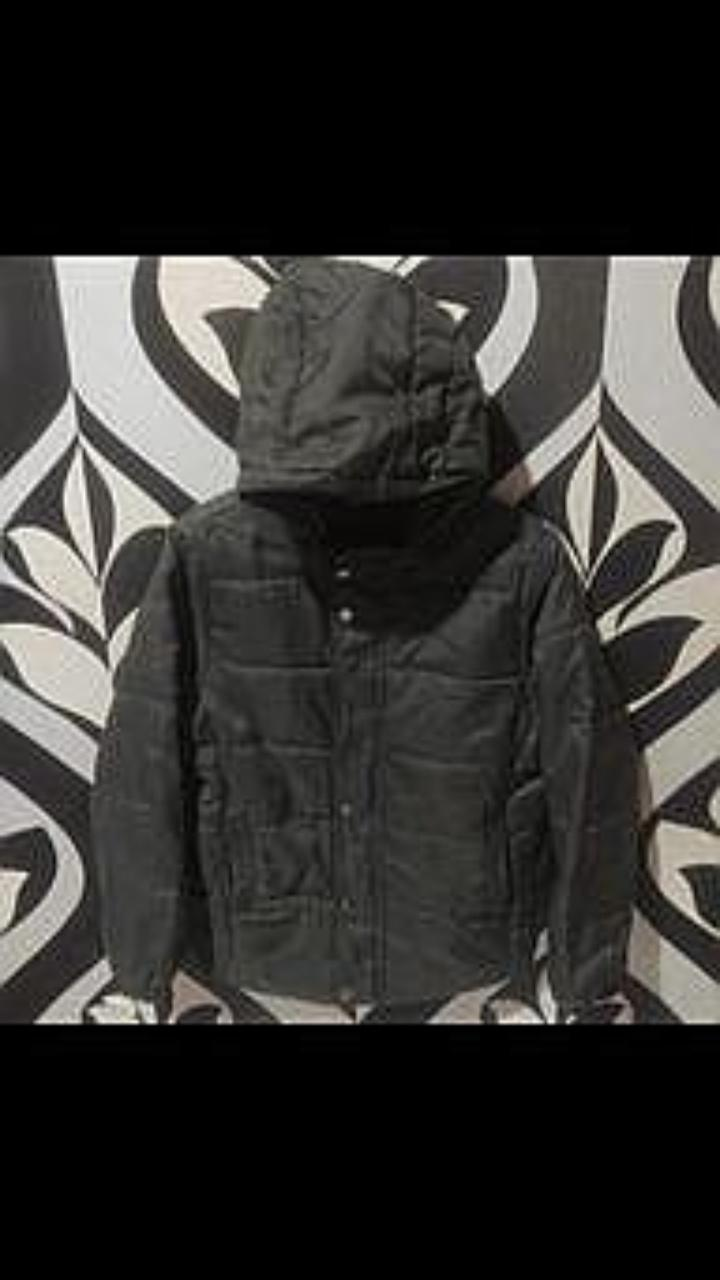Sports_Jacket: (91, 258, 637, 1017)
